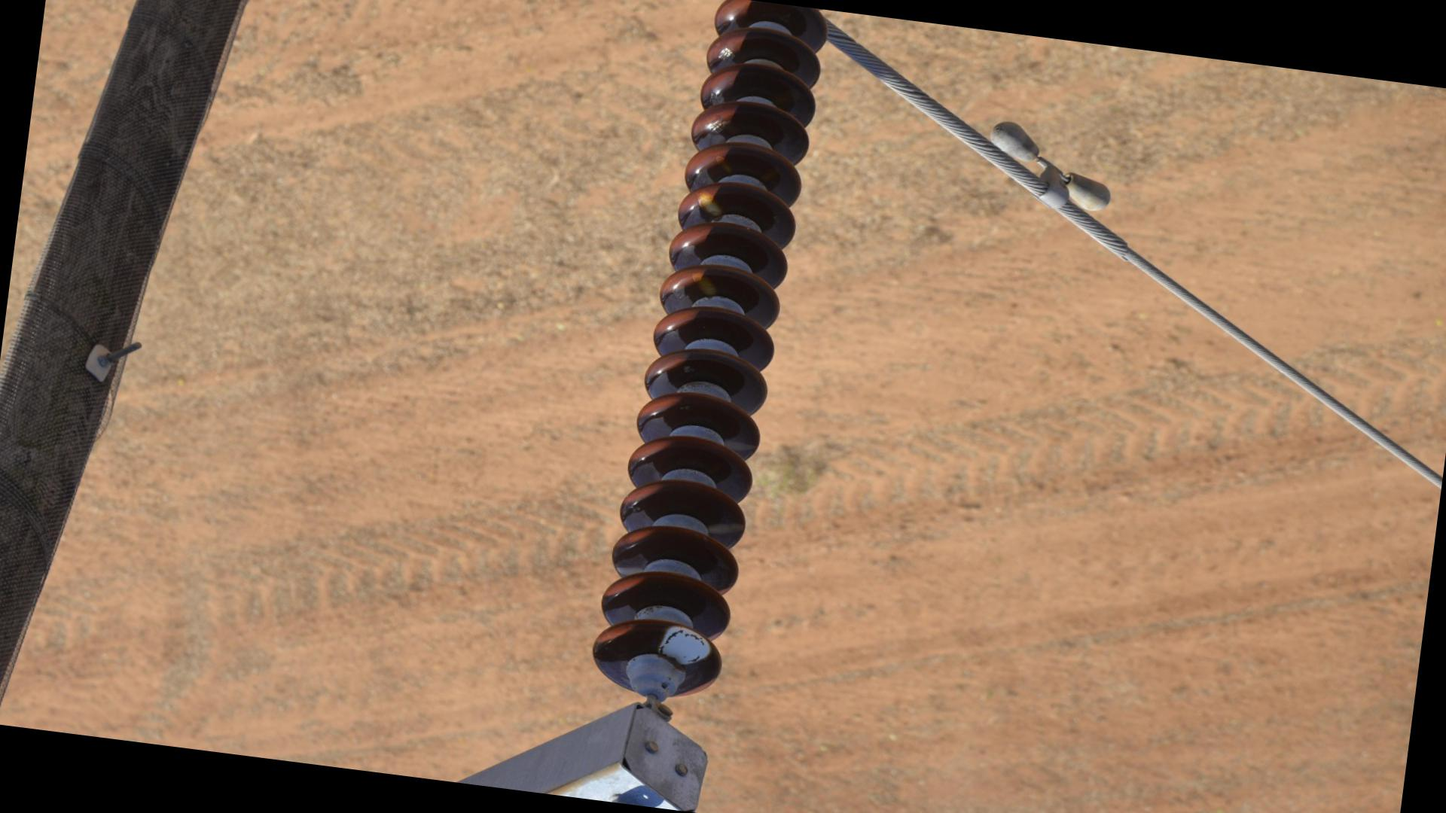damper: (975, 114, 1123, 222)
